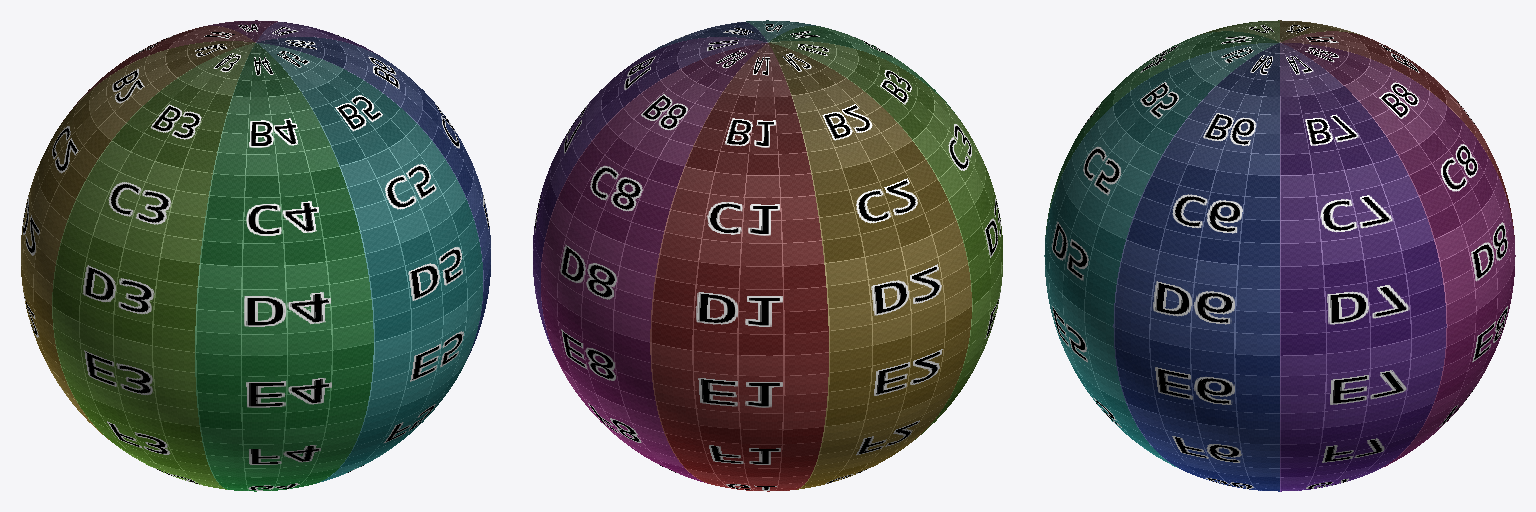
The picture shows the model from 3 angles: view 1: azimuth 30°, elevation 25°; view 2: azimuth 150°, elevation 25°; view 3: azimuth 270°, elevation 25°; orthographic projection.
Parts seen in each view (by area): view 1: Low; view 2: Low; view 3: Low.
Part boxes in pixels (bbox=[...]): Low: bbox=[21, 20, 490, 491]; Low: bbox=[533, 20, 1002, 491]; Low: bbox=[1044, 20, 1515, 491].
Size of the model in its own units: 8.82 by 8.82 by 8.82.
Materials: 1 (1 with a texture image).